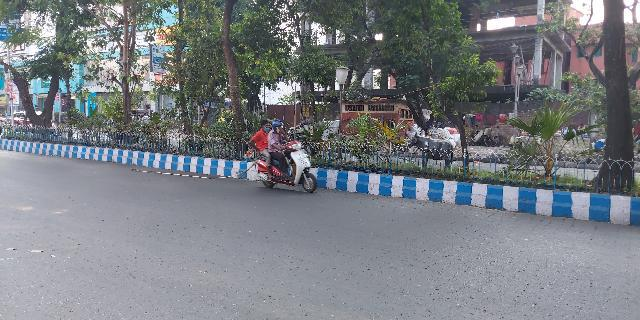Motorbike: (250, 113, 330, 204)
